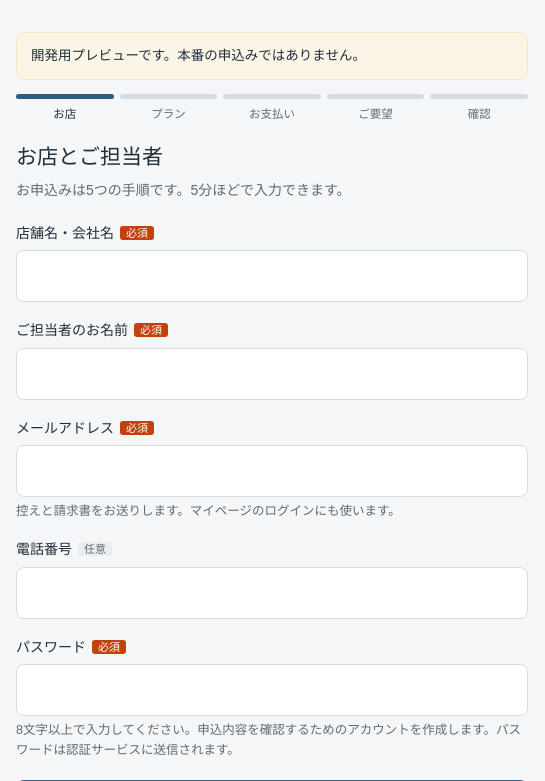
application flow › keeps the draft when moving back and forward between steps
Type "喫茶ひだまり" into the field labelled "店舗名" at (272, 276), box x1=16 y1=250 x2=528 y2=302
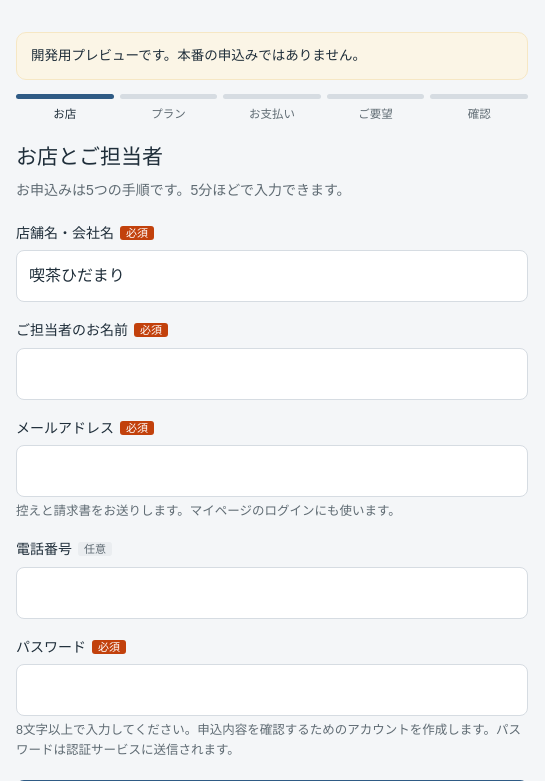
Type "山田 花子" into the field labelled "ご担当者のお名前" at (272, 374), box x1=16 y1=348 x2=528 y2=400
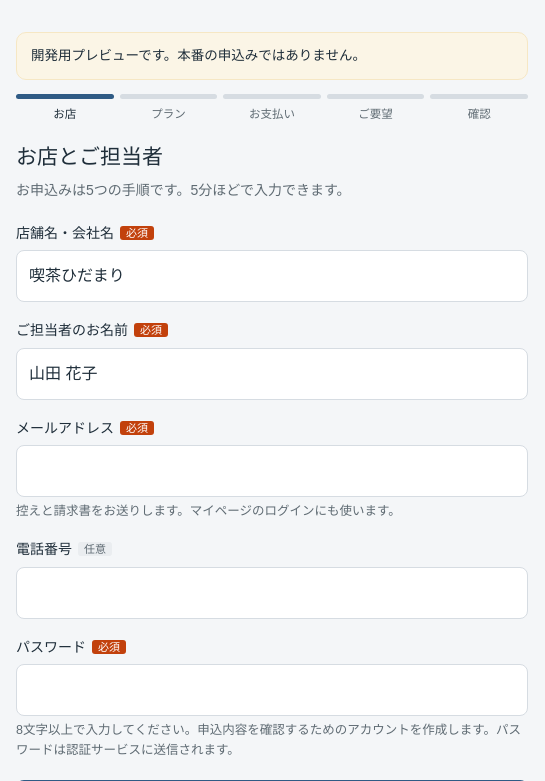
Type "shop@example.jp" into the field labelled "メールアドレス" at (272, 471), box x1=16 y1=445 x2=528 y2=497
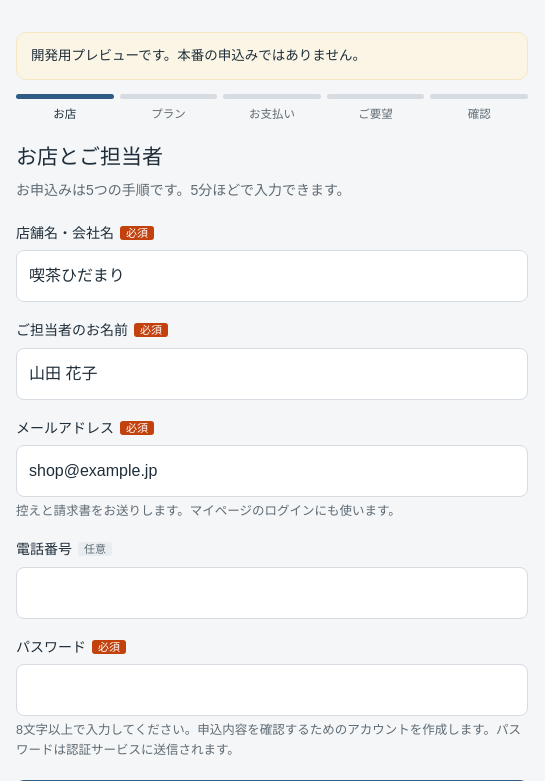
Type "secret-password" into the password field labelled "パスワード" at (272, 690), box x1=16 y1=664 x2=528 y2=716
(page scrolled)
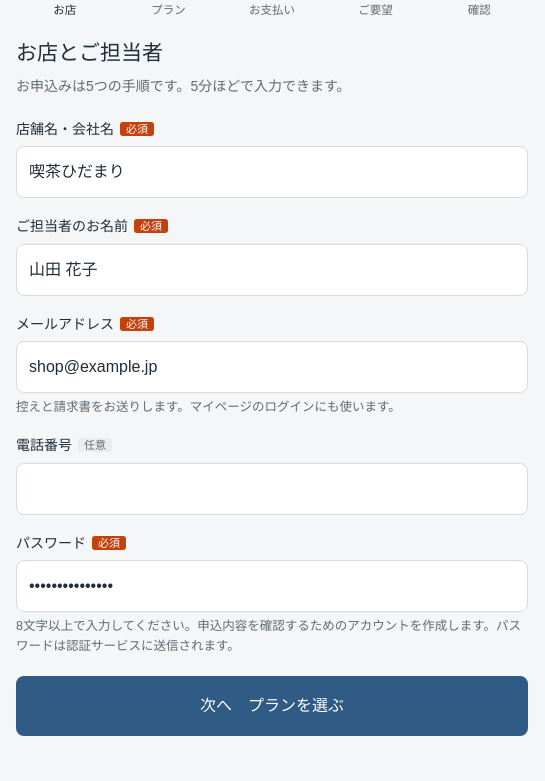
Click the button "次へ プランを選ぶ" at (272, 706), box x1=16 y1=676 x2=528 y2=736
(page scrolled)
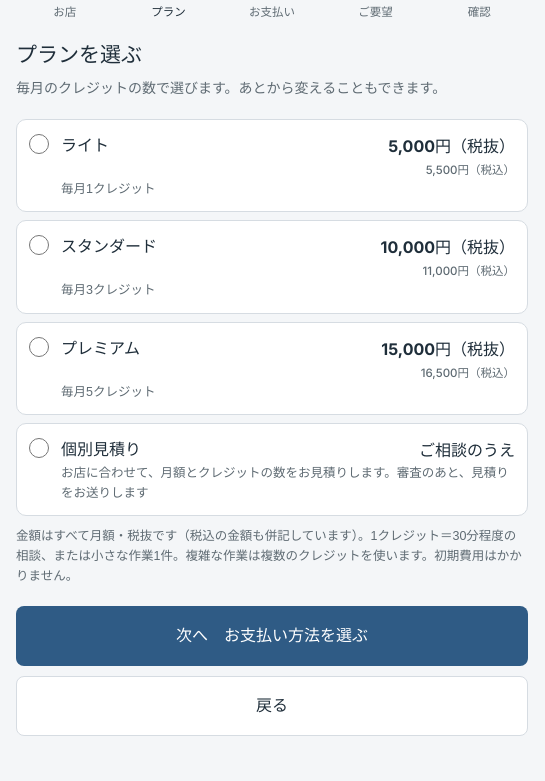
Now the heading "プランを選ぶ" is shown, box x1=16 y1=43 x2=142 y2=66
Click the button "戻る" at (272, 706), box x1=16 y1=676 x2=528 y2=736
(page scrolled)
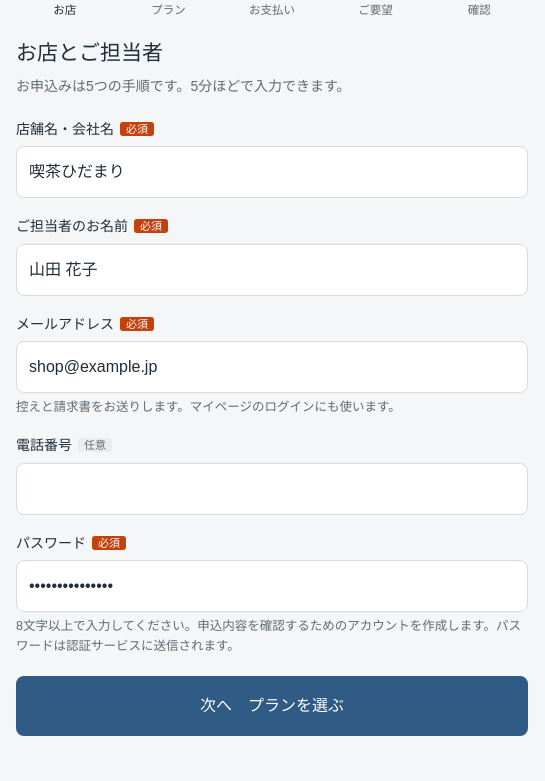
Now the field labelled "店舗名" holds "喫茶ひだまり", box x1=16 y1=146 x2=528 y2=198
